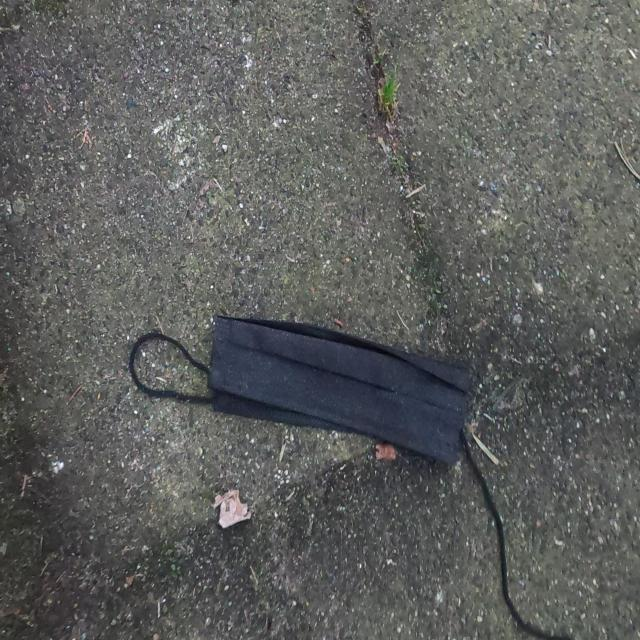Mask: (128, 311, 580, 640)
